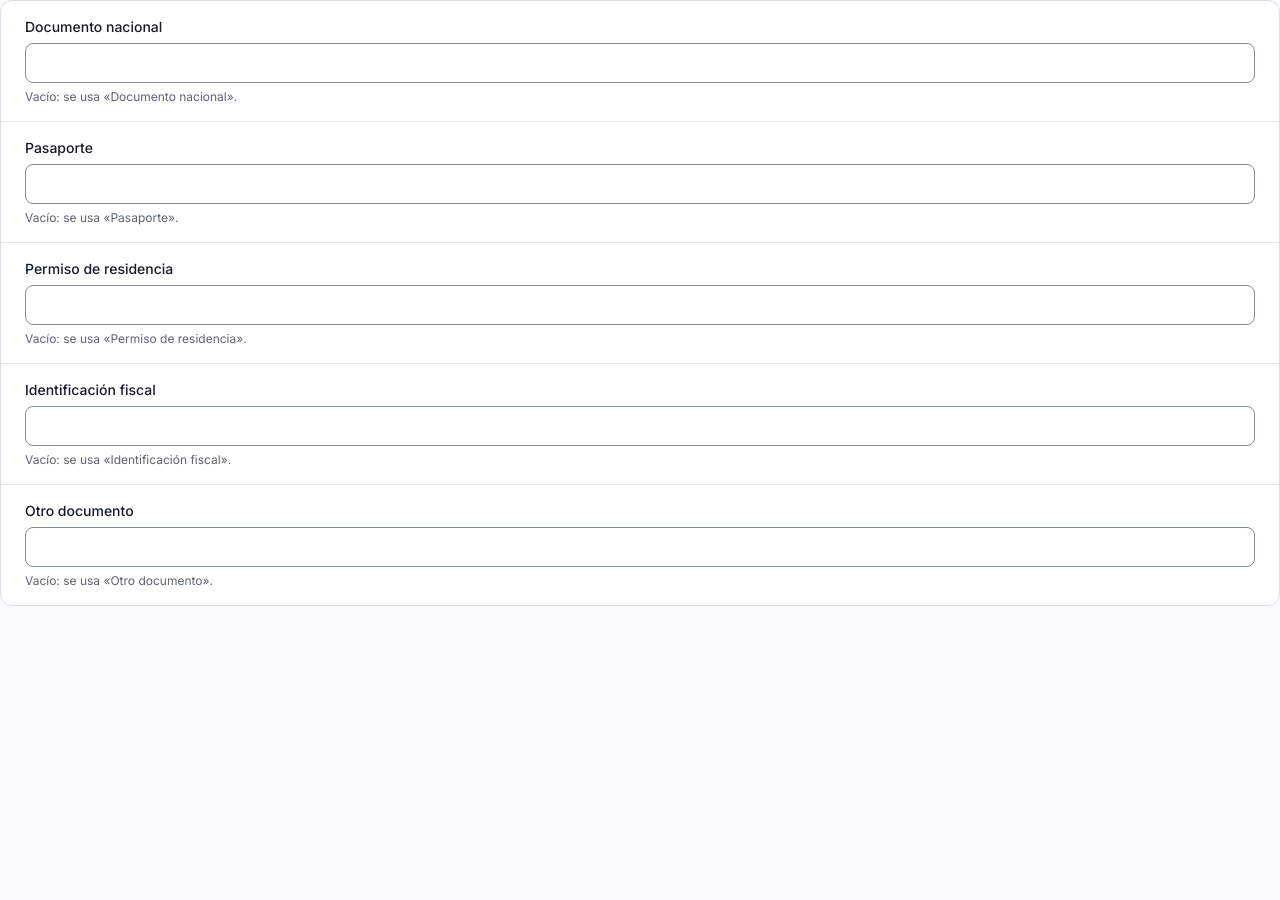
Test: DocumentTypeNamesSettingsSection (DX-327) › without changes there is no Guardar; «Descartar» undoes the edits without saving
Expected: the button "Guardar" is not shown
Type "Doc" into the field labelled "Pasaporte" at (640, 184), box [25, 164, 1255, 204]
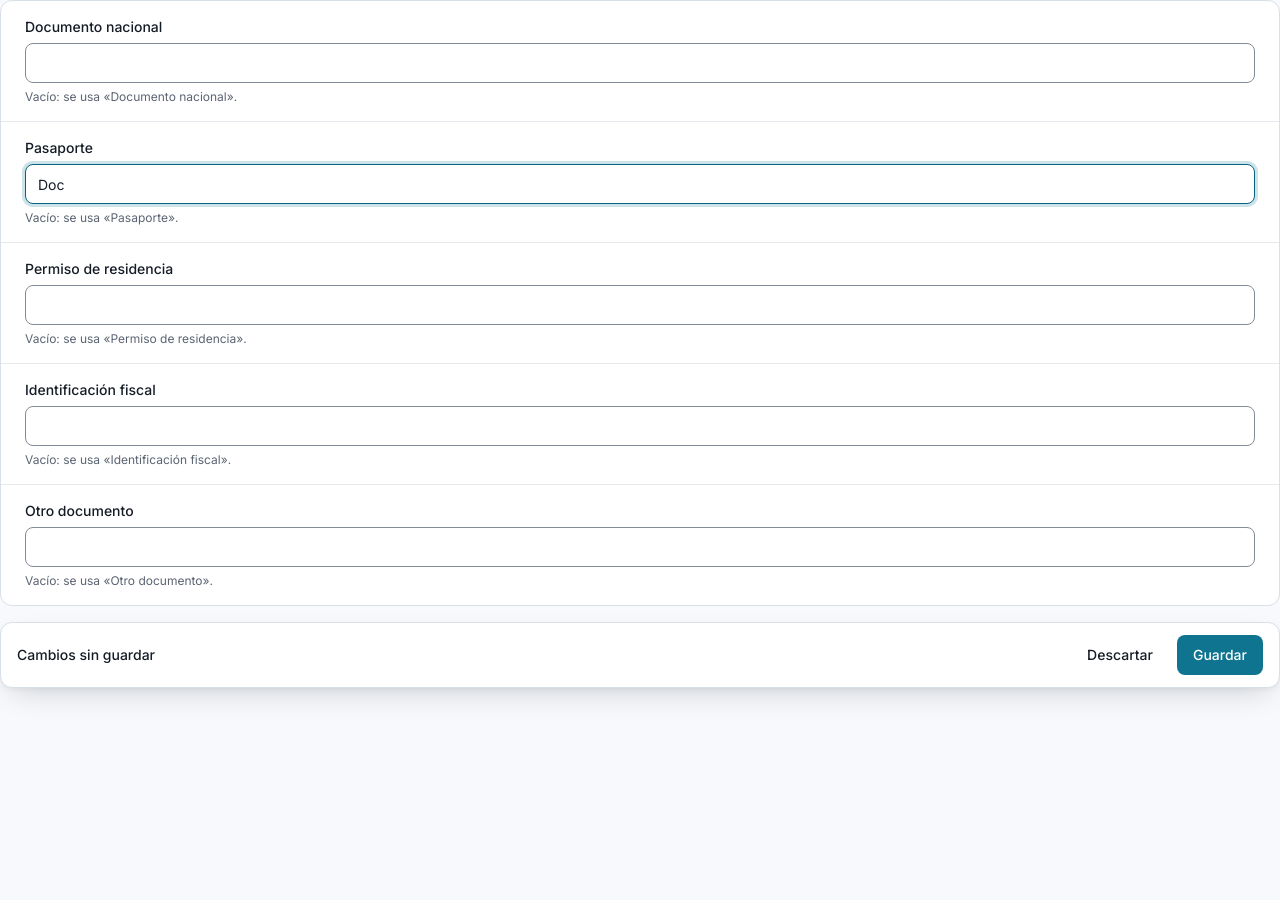
Expected: the text "Cambios sin guardar" is shown, [17, 645, 155, 665]
Click the button "Descartar" at (1120, 655), box [1071, 635, 1169, 675]
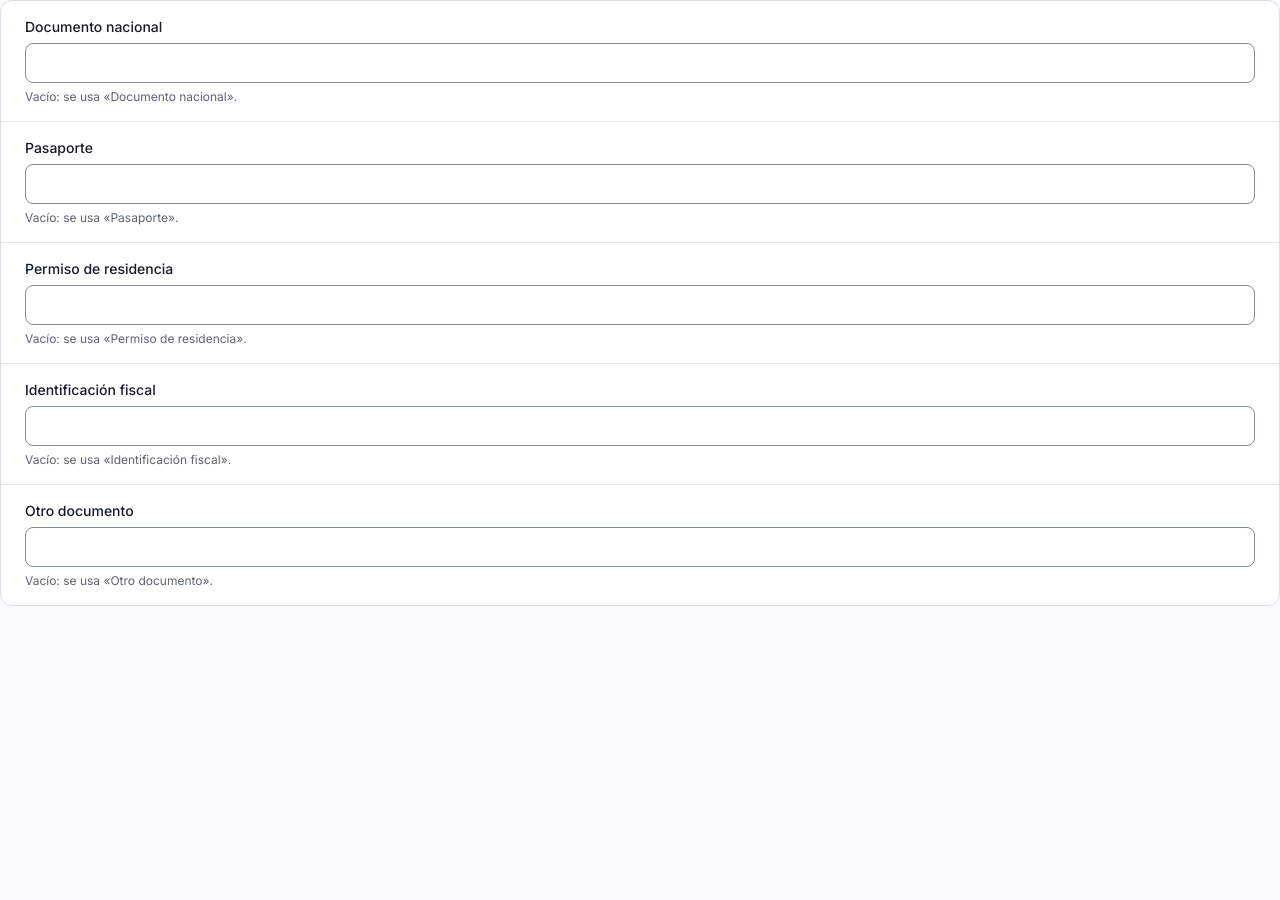
Expected: the field labelled "Pasaporte" is empty, [25, 164, 1255, 204]
Expected: the text "guardar" is gone
